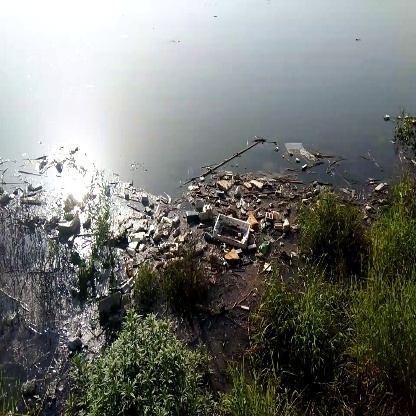branch: (188, 138, 268, 180)
